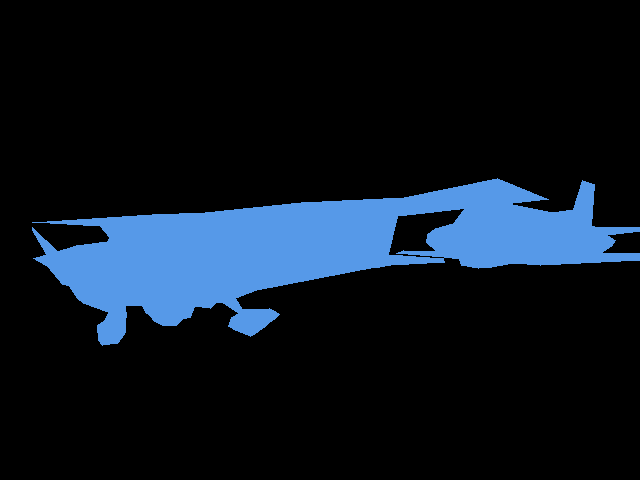Airplane: (32, 178, 549, 345), (396, 180, 640, 269)
